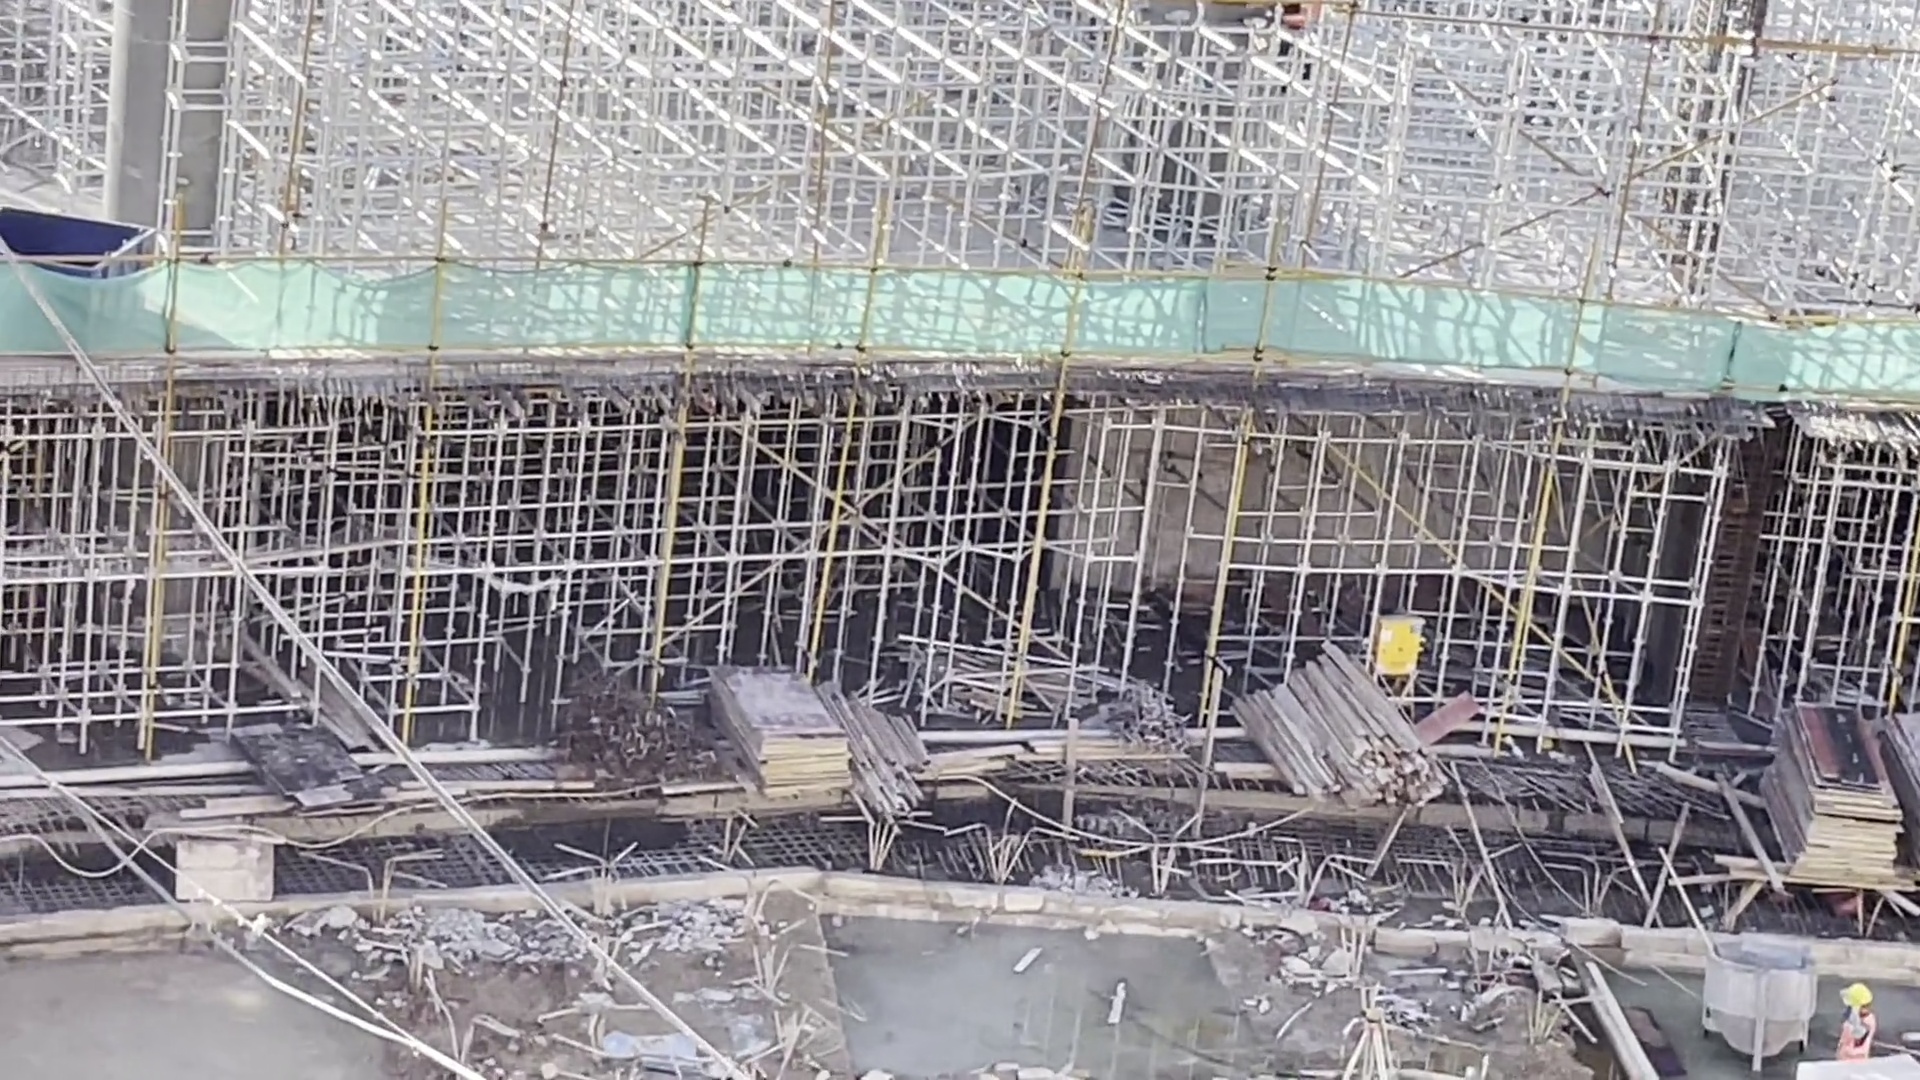board: (1761, 699, 1897, 894), (706, 670, 850, 814)
ebox: (1370, 613, 1423, 703)
helmet: (1838, 978, 1874, 1009)
hopper: (1696, 937, 1820, 1069), (1, 207, 163, 279)
person: (1830, 973, 1878, 1080)
vest: (1833, 1009, 1877, 1060)
wood: (1241, 649, 1446, 824)
